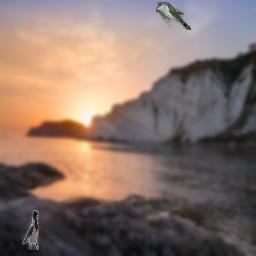Crow: (22, 210, 39, 250)
Cuckoo: (156, 2, 191, 30)
